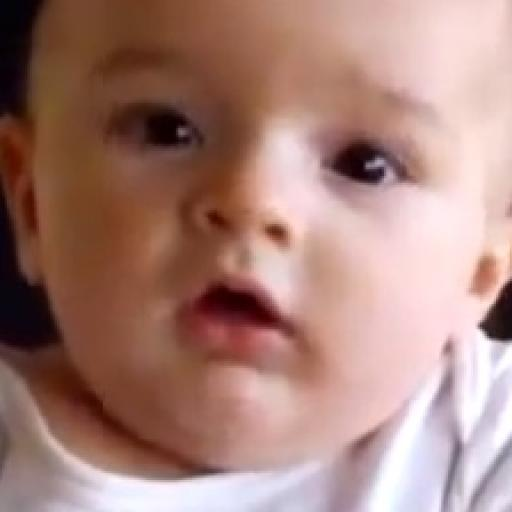Autism: (20, 2, 486, 470)
